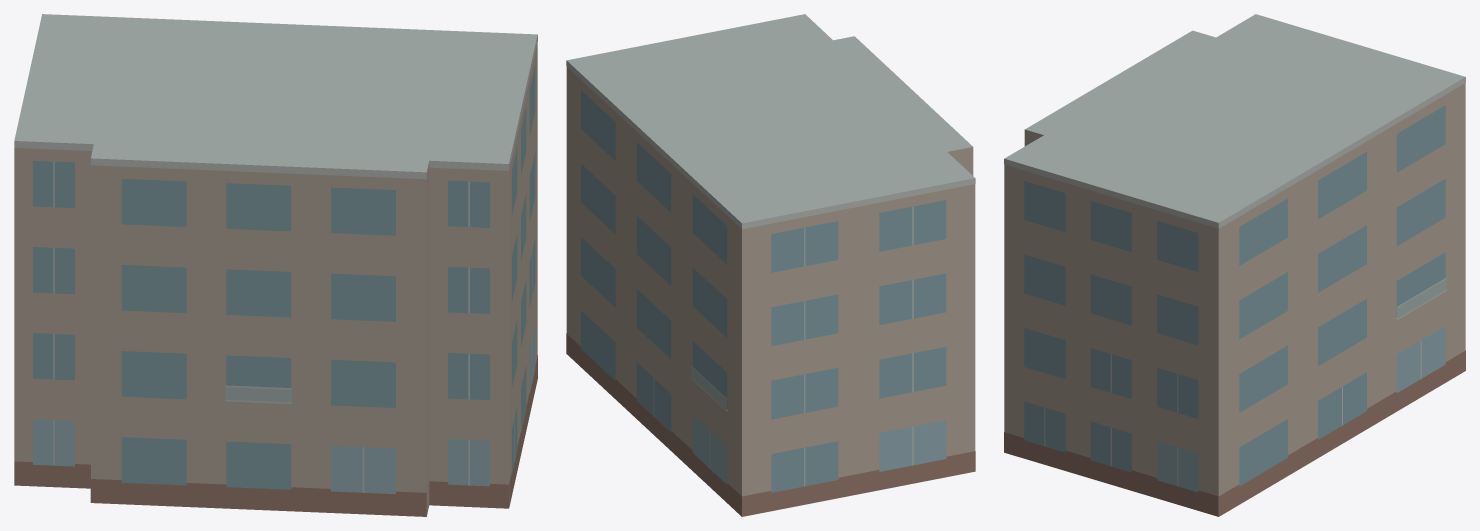
Rendered from survey-upis-32801023.glb.
The picture shows the model from 3 angles, left to right: view 1: azimuth 30°, elevation 25°; view 2: azimuth 150°, elevation 25°; view 3: azimuth 270°, elevation 25°; orthographic projection. The views are drawn at different scales.
Visible parts, largest first — view 1: survey-upis-32801023.tmp; view 2: survey-upis-32801023.tmp; view 3: survey-upis-32801023.tmp.
Part boxes in pixels (left/top/right/bottom): survey-upis-32801023.tmp: left=14, top=14, right=537, bottom=516; survey-upis-32801023.tmp: left=566, top=14, right=975, bottom=516; survey-upis-32801023.tmp: left=1004, top=14, right=1465, bottom=516.
Size of the model in its own units: 18.53 by 12.15 by 17.3.
